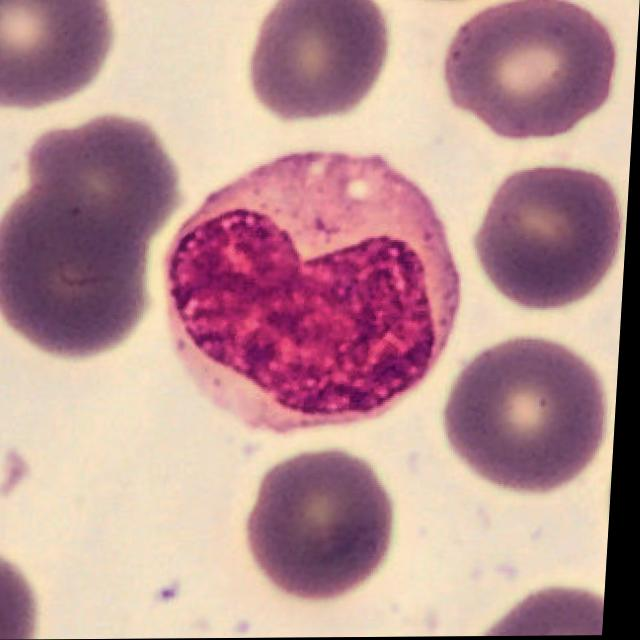Metamielocito: (170, 150, 463, 431)
